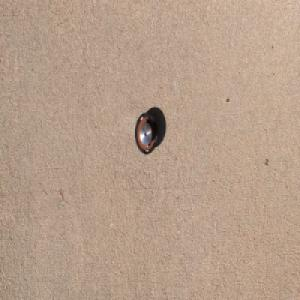FuelCap: (134, 110, 158, 155)
